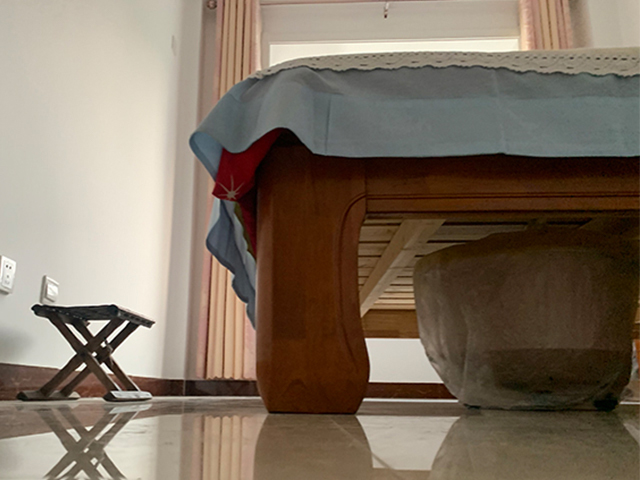bed: (189, 45, 640, 416)
curtain: (194, 1, 261, 381)
stool: (16, 303, 157, 402)
